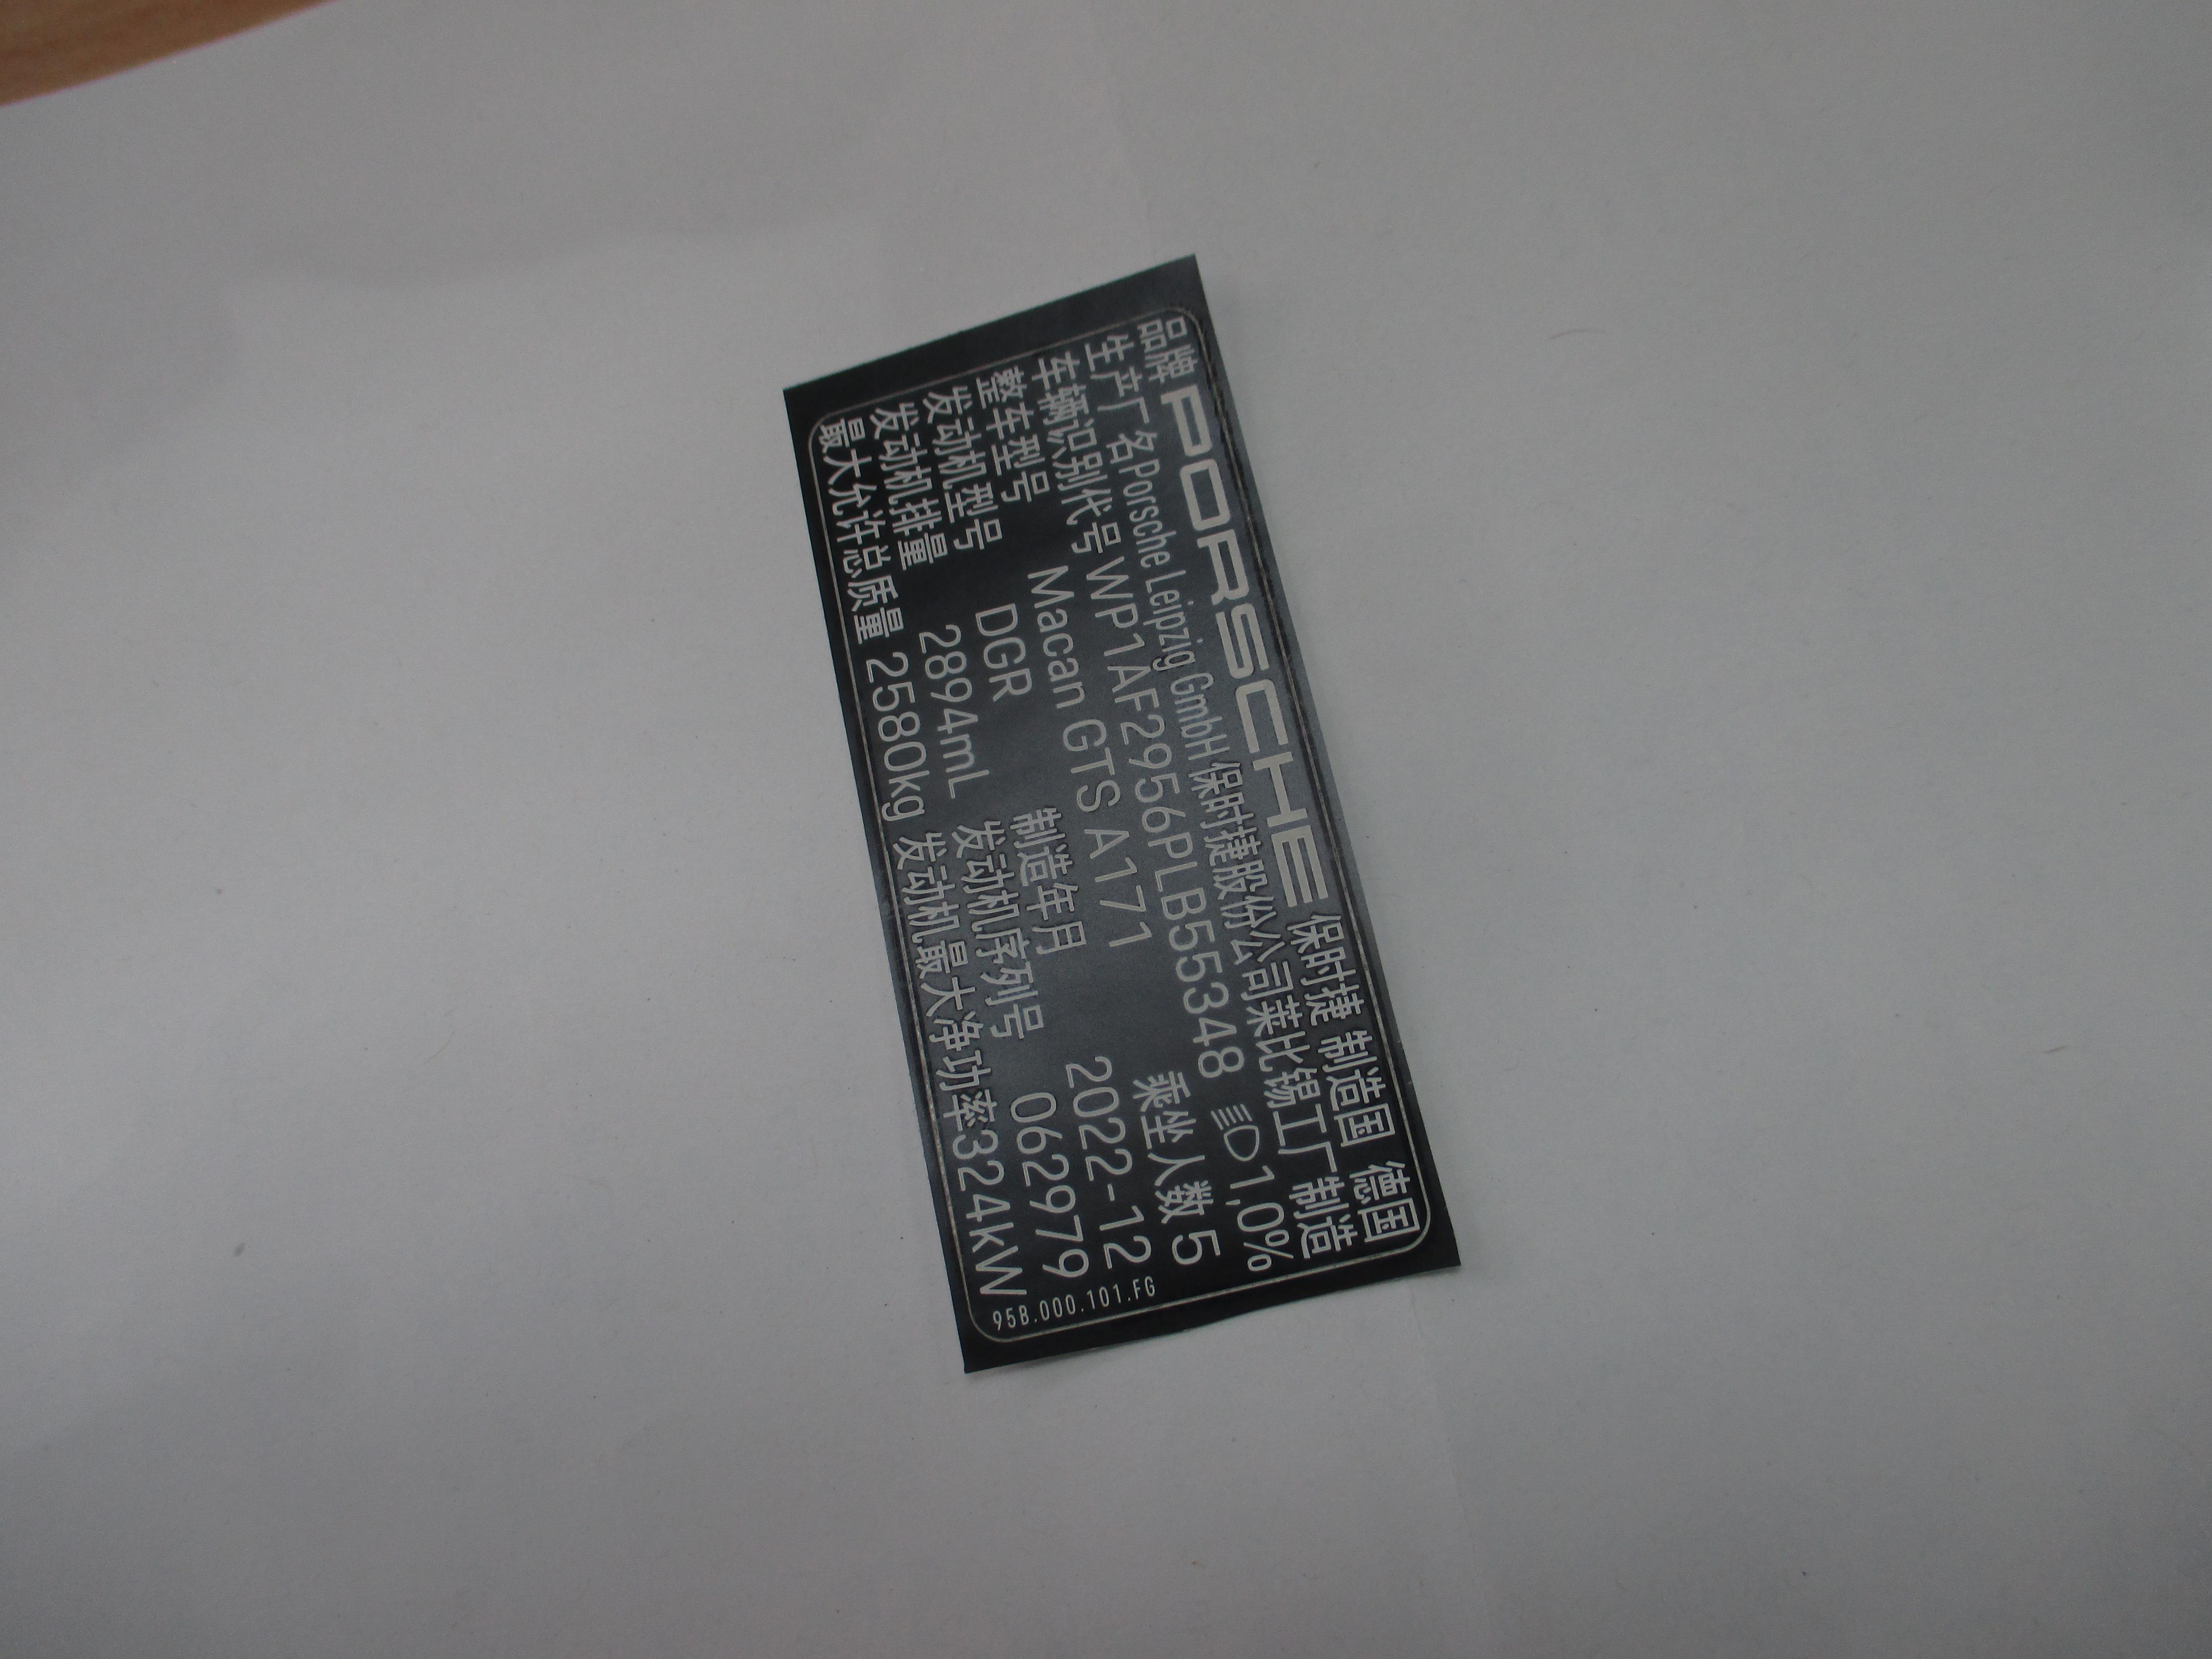Sign: (808, 310, 1430, 1345)
